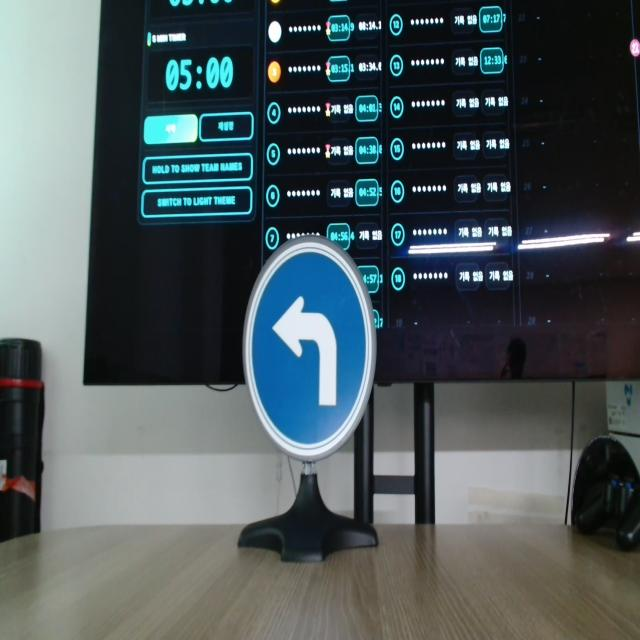left_direction: (239, 232, 372, 466)
